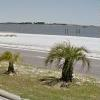Tree: (42, 34, 94, 81)
